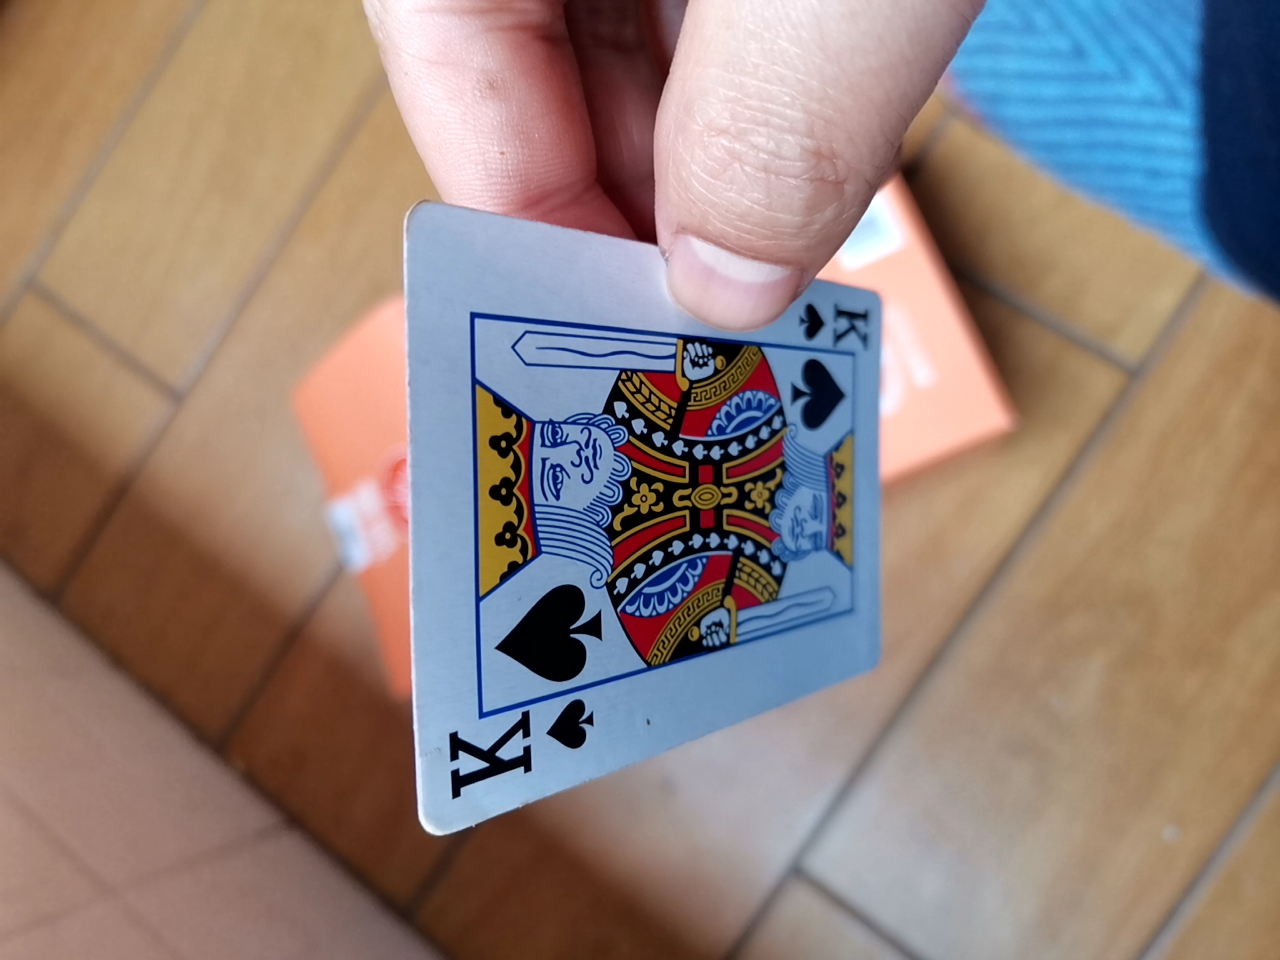ht k: (386, 187, 930, 864)
